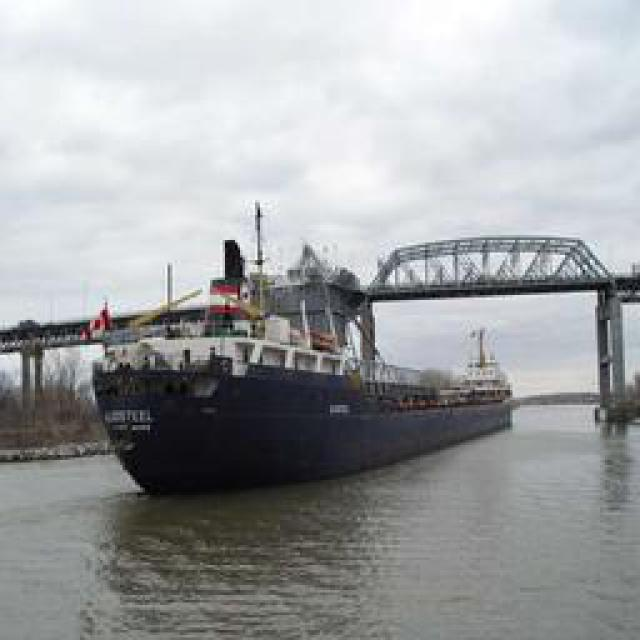Ship: (87, 213, 537, 498)
